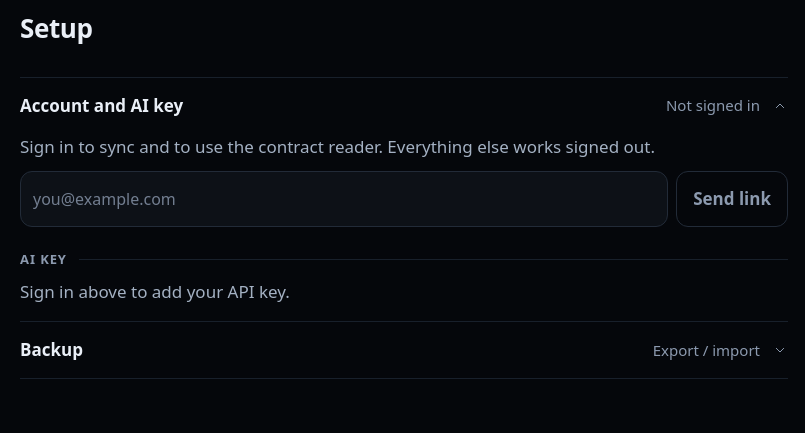
the account section › offers a magic-link sign-in when configured and signed out
Type "creator@example.com" into the field with placeholder "you@example.com" at (344, 199), box [20,171,668,227]
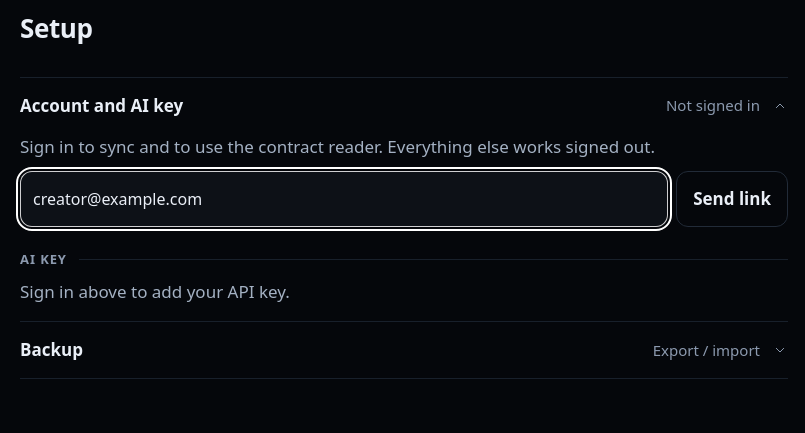
Click the button "Send link" at (732, 199), box [676,171,788,227]
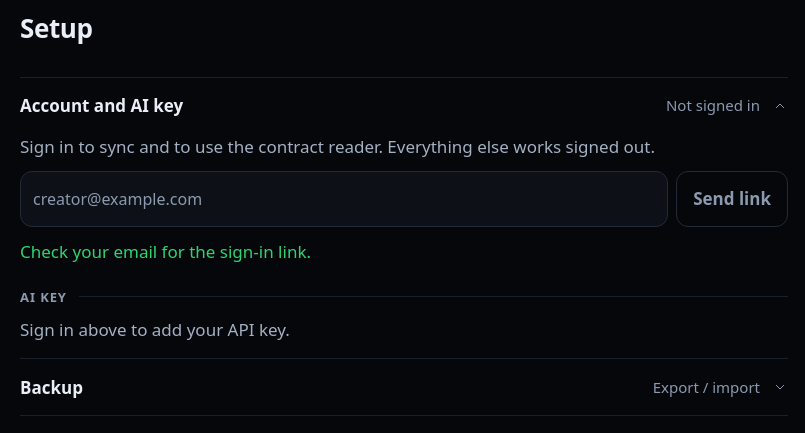
Expected: the text "Check your email for the sign-in link." is shown, [20,240,311,263]
